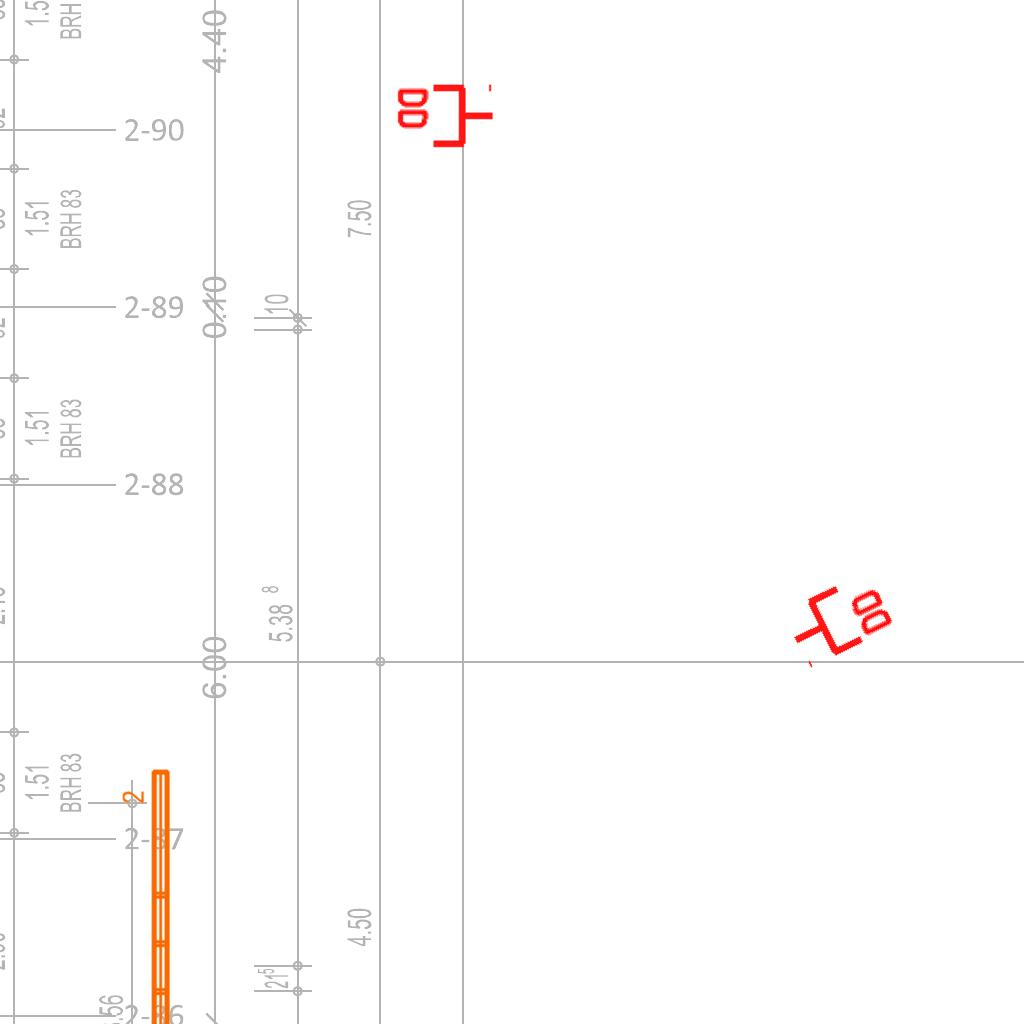Ambulanz_Pendelleuchte_LED: (120, 765, 176, 1024)
Datenanschluss_zweifach: (777, 563, 900, 672), (393, 83, 496, 152)
